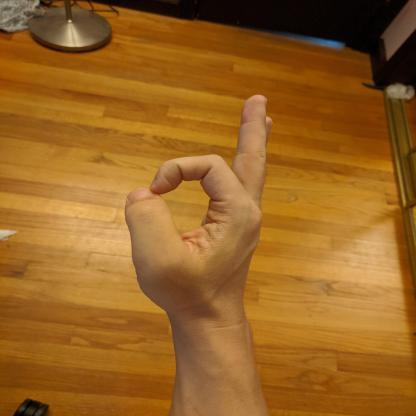F: (121, 92, 276, 320)
